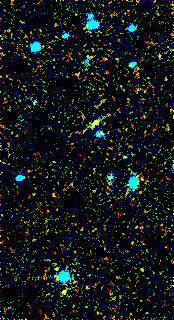star: (47, 278, 77, 308)
